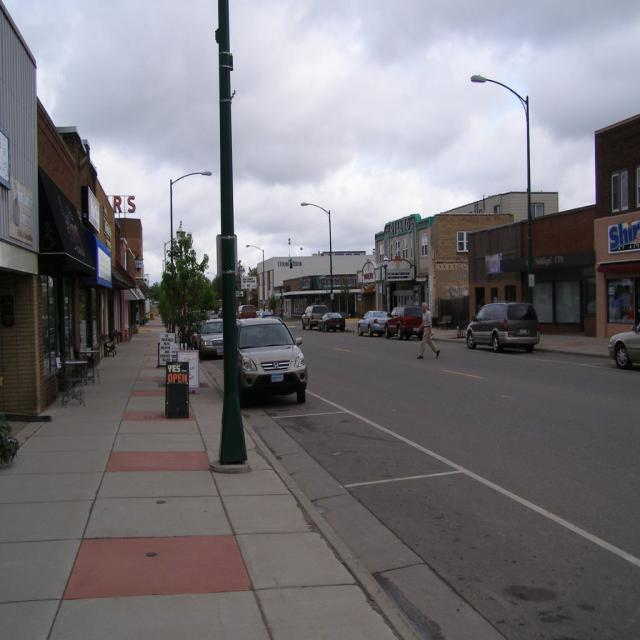car: (466, 297, 540, 348)
